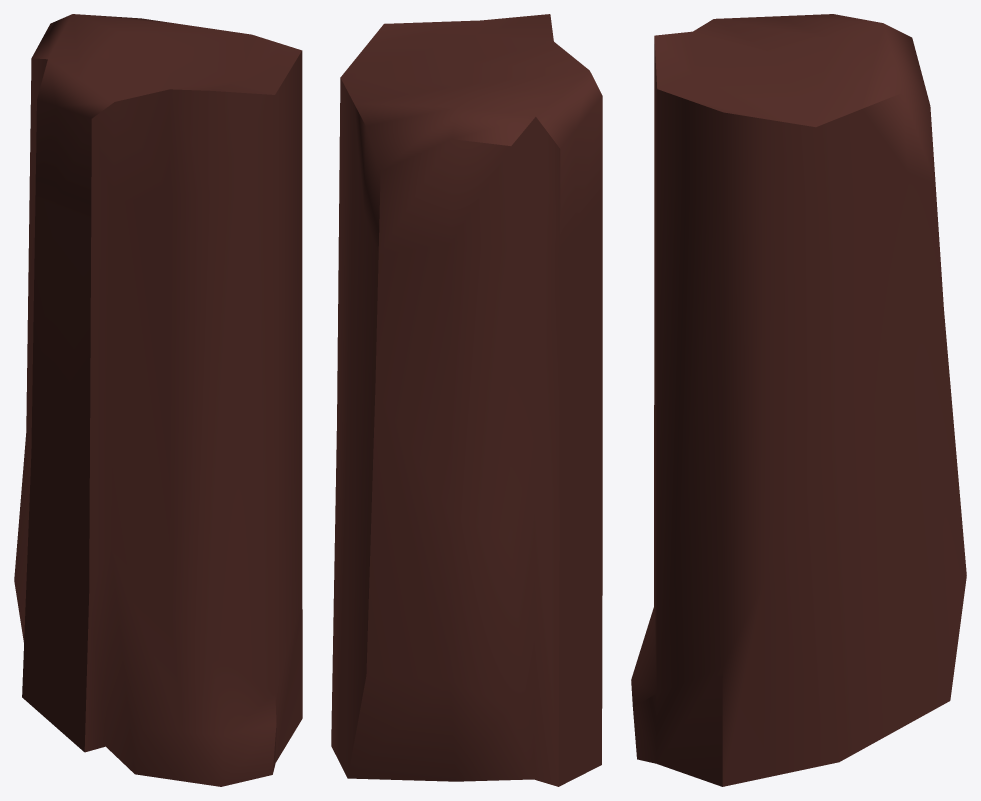
The model's file is SM_big_rock_D.fbx.
The picture shows the model from 3 angles, left to right: view 1: azimuth 30°, elevation 25°; view 2: azimuth 150°, elevation 25°; view 3: azimuth 270°, elevation 25°; orthographic projection. The views are drawn at different scales.
Parts seen in each view (by area): view 1: polySurface33; view 2: polySurface33; view 3: polySurface33.
Boxes of the visible parts, x1,y1,x2,y2 form: polySurface33: (14, 14, 302, 786); polySurface33: (331, 14, 602, 786); polySurface33: (631, 14, 966, 786).
Bounding box in the file's own units: 641 × 1889 × 824.
